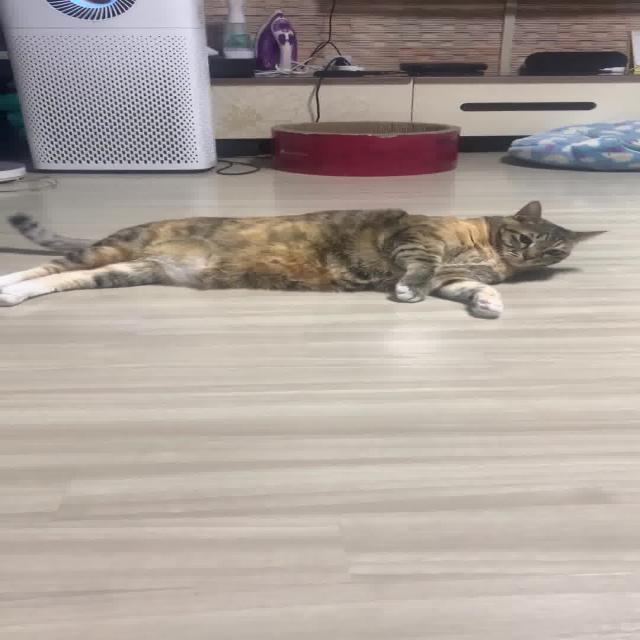cat: (0, 184, 627, 335)
